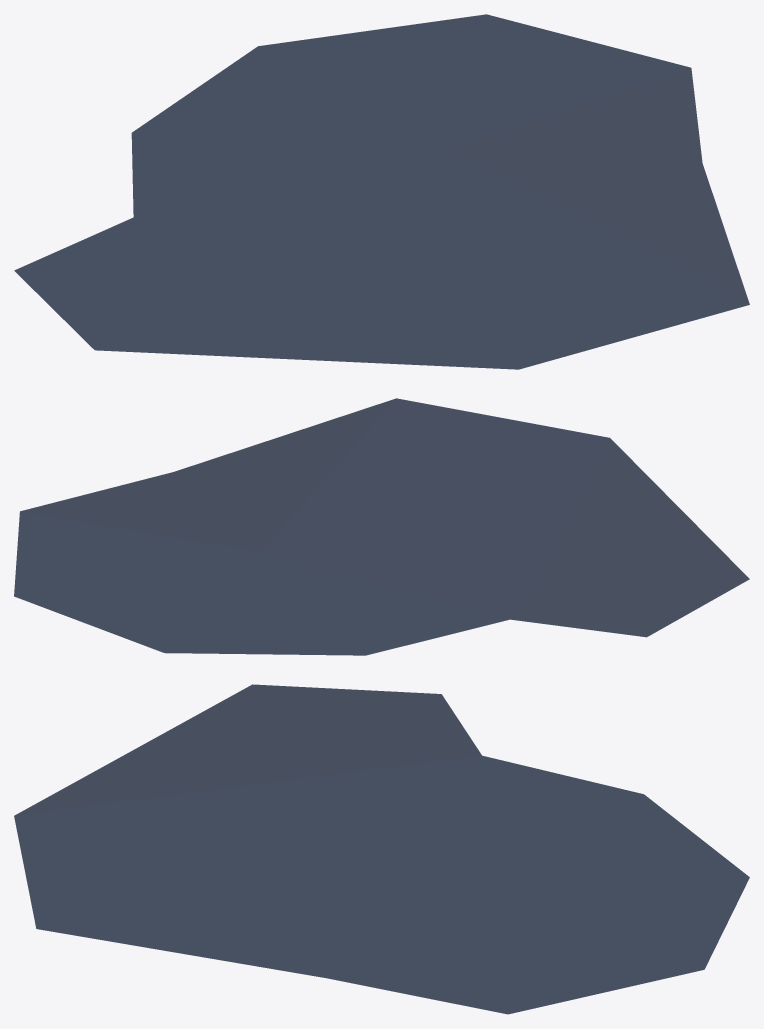
3 renders of one model, top to bottom at view 1: azimuth 30°, elevation 25°; view 2: azimuth 150°, elevation 25°; view 3: azimuth 270°, elevation 25°, orthographic. The views are drawn at different scales.
Parts seen in each view (by area): view 1: Plane.001; view 2: Plane.001; view 3: Plane.001.
Part boxes in pixels (x1,y1,x2,y2): Plane.001: [14, 14, 749, 369]; Plane.001: [14, 398, 749, 655]; Plane.001: [14, 684, 749, 1014].
Bounding box in the file's own units: 153 × 0.6567 × 143.
